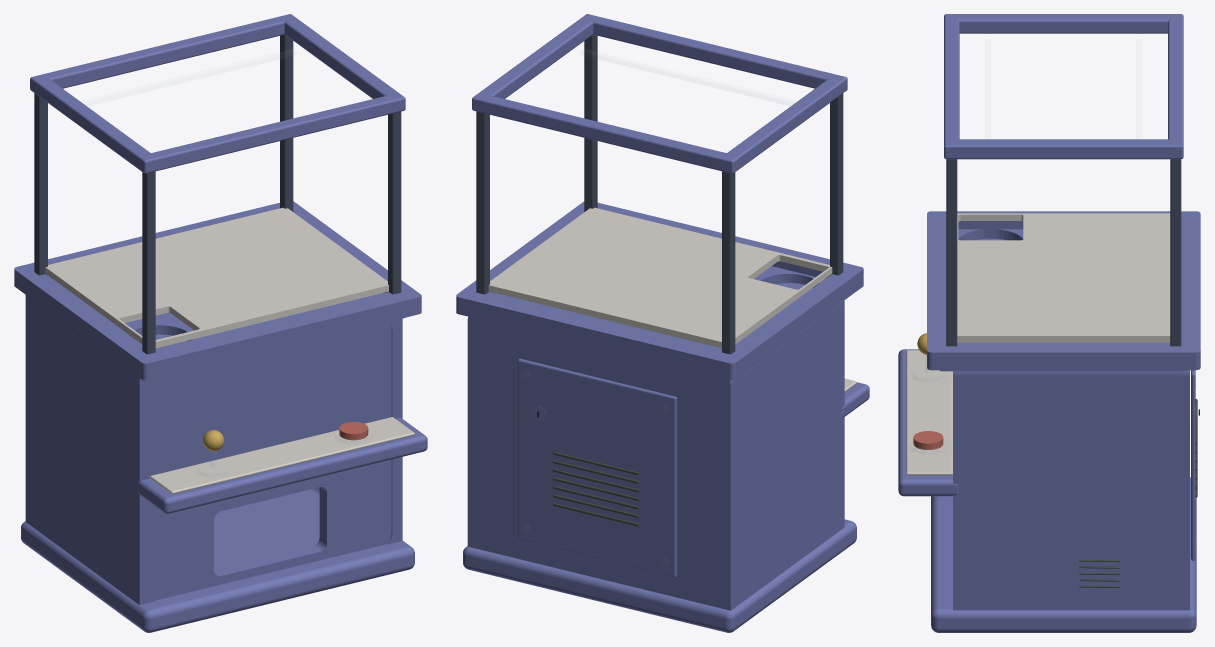
File: machine-sky-study.glb
3 views of the same model, side by side, from view 1: azimuth 30°, elevation 25°; view 2: azimuth 150°, elevation 25°; view 3: azimuth 270°, elevation 25° (orthographic). The views are drawn at different scales.
Visible parts, largest first — view 1: CabinetShell_Batch0; view 2: CabinetShell_Batch0; view 3: CabinetShell_Batch0, ClawButton_Batch1.
Part boxes in pixels (x1,y1,x2,y2): CabinetShell_Batch0: (14,14,427,632); CabinetShell_Batch0: (456,14,869,632); CabinetShell_Batch0: (898,14,1200,632); ClawButton_Batch1: (913,431,943,449).
Size of what is drawn, in the model's own units: 0.257 by 0.428 by 0.232.
